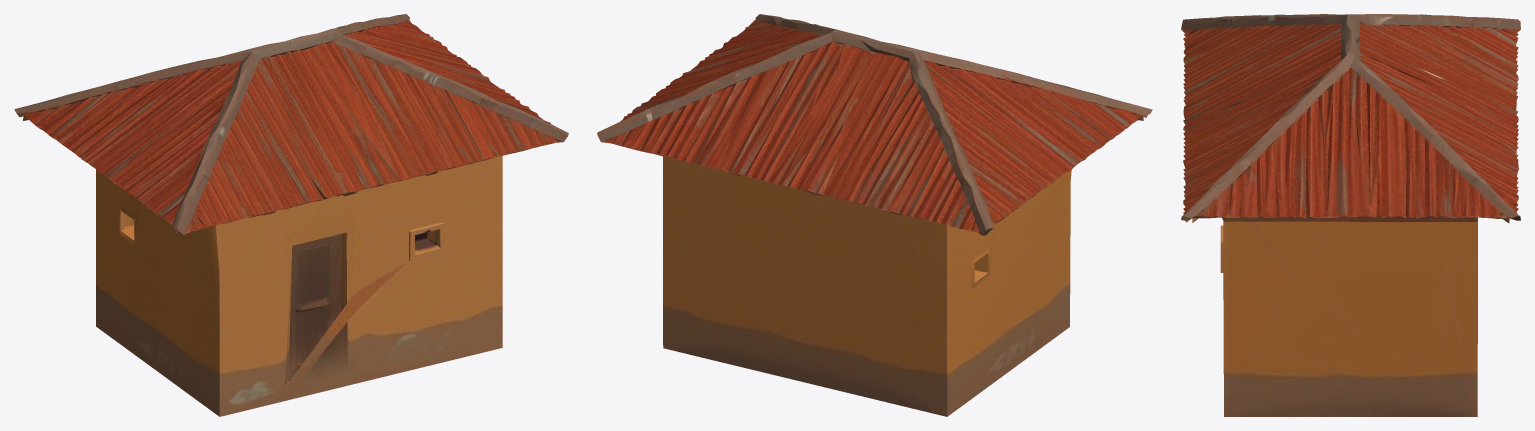
Rendered from House_MudBrick_TinRoof.glb.
3 renders of one model, left to right at view 1: azimuth 30°, elevation 25°; view 2: azimuth 150°, elevation 25°; view 3: azimuth 270°, elevation 25°, orthographic. The views are drawn at different scales.
Size of the model in its own units: 1.9 by 1.38 by 1.38.
Materials: 1 (1 with a texture image).
